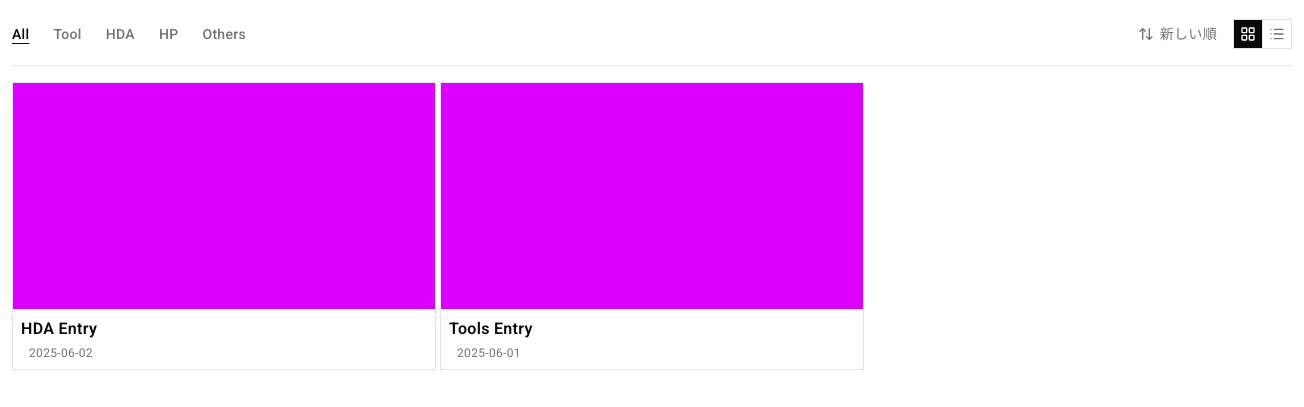
Test: CategoryFilter › always shows both the grid and list toggle buttons when cardType is blog, and they switch the view
The image size is (1304, 407).
Click the button named "リスト表示" at [1277, 34], box [1263,20,1291,48]
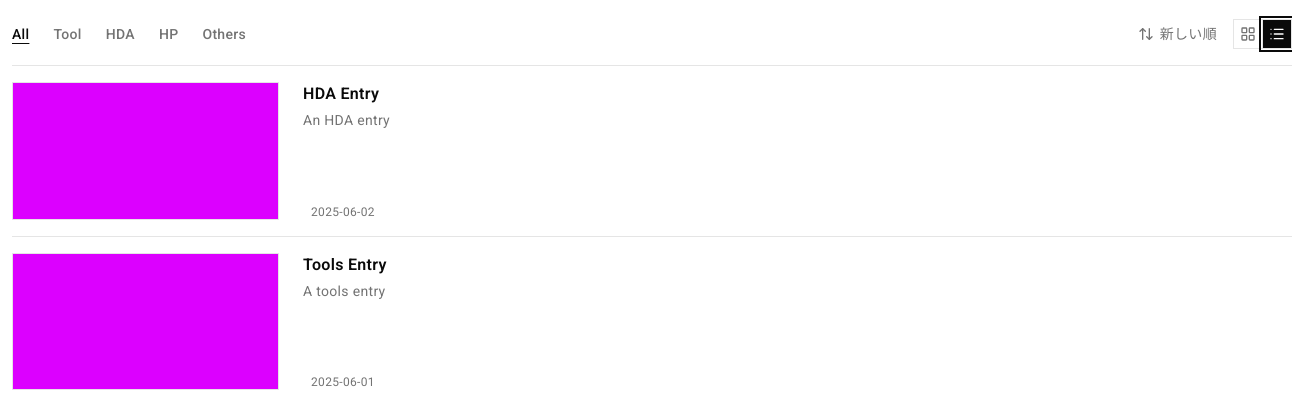
Check: the text "A tools entry" is shown, box [303,282,386,298]
